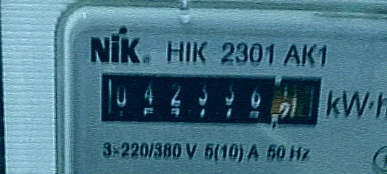0: (111, 82, 126, 112)
2: (163, 81, 183, 109)
3: (190, 80, 208, 110), (219, 80, 235, 109)
4: (137, 82, 155, 110)
6: (245, 85, 261, 112)
screen: (85, 56, 329, 148)
